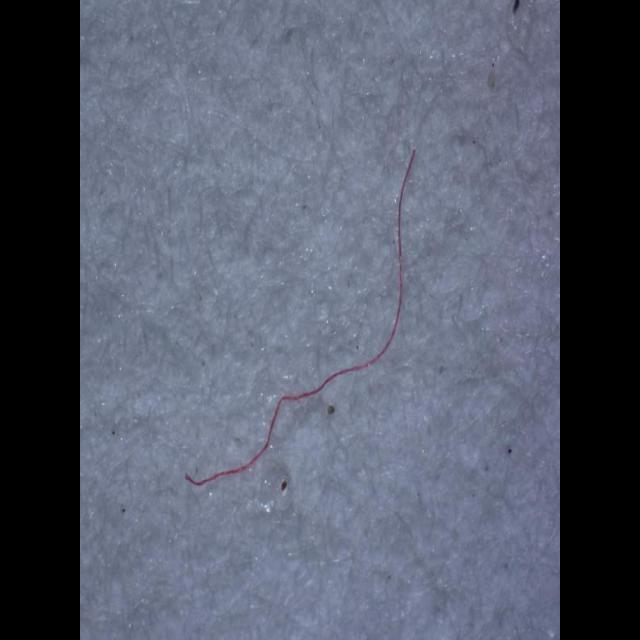Fibre: (184, 146, 416, 492)
